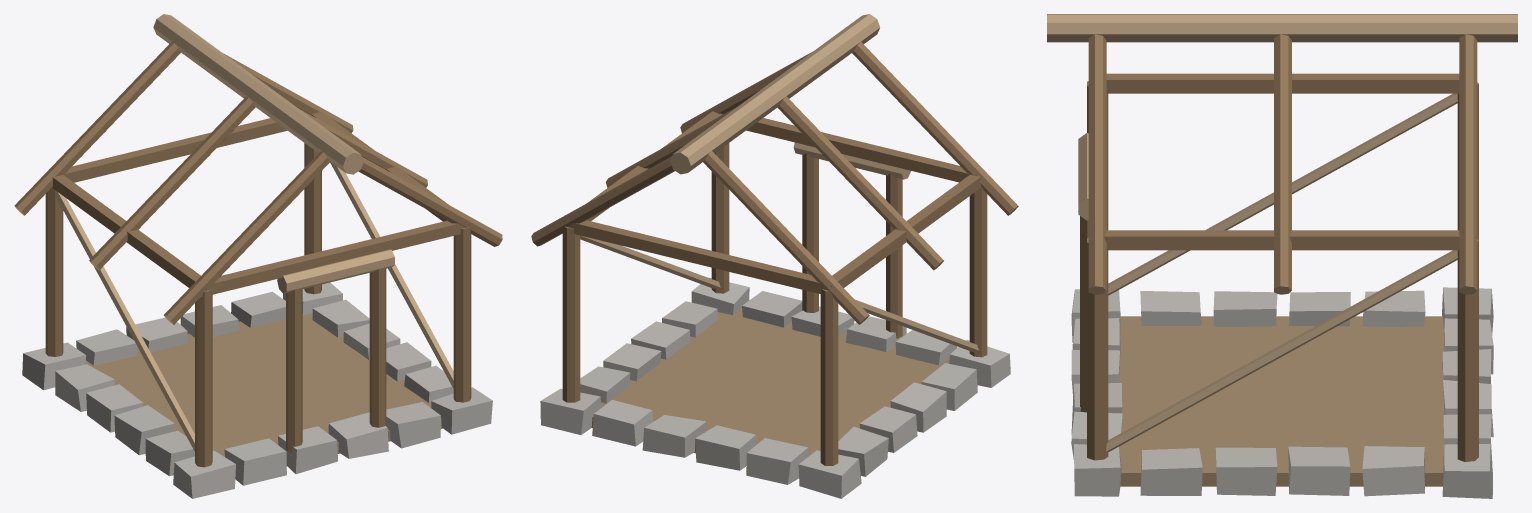
File: building_granary_frame.glb
The picture shows the model from 3 angles, left to right: view 1: azimuth 30°, elevation 25°; view 2: azimuth 150°, elevation 25°; view 3: azimuth 270°, elevation 25°; orthographic projection. The views are drawn at different scales.
Visible parts, largest first — view 1: building_granary_frame; view 2: building_granary_frame; view 3: building_granary_frame.
Boxes of the visible parts, <box> form: building_granary_frame: <box>14,14,502,498</box>; building_granary_frame: <box>531,14,1018,498</box>; building_granary_frame: <box>1047,14,1517,498</box>.
Bounding box in the file's own units: 3.85 × 3.47 × 3.76.
